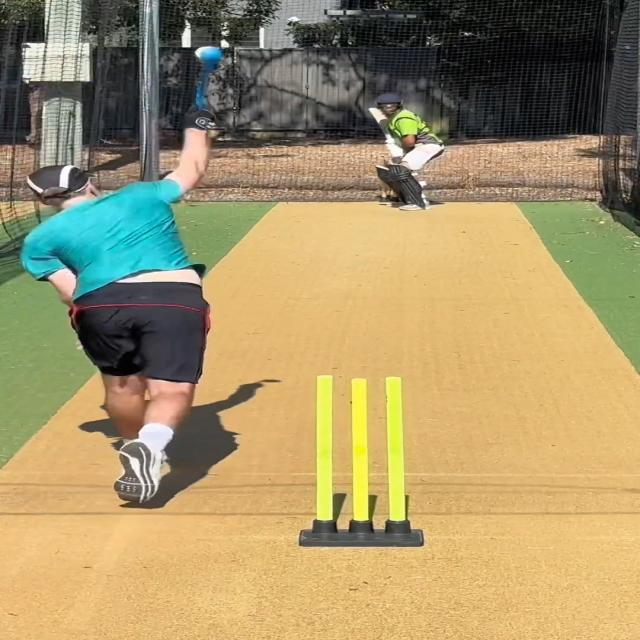stump: (298, 373, 426, 547)
